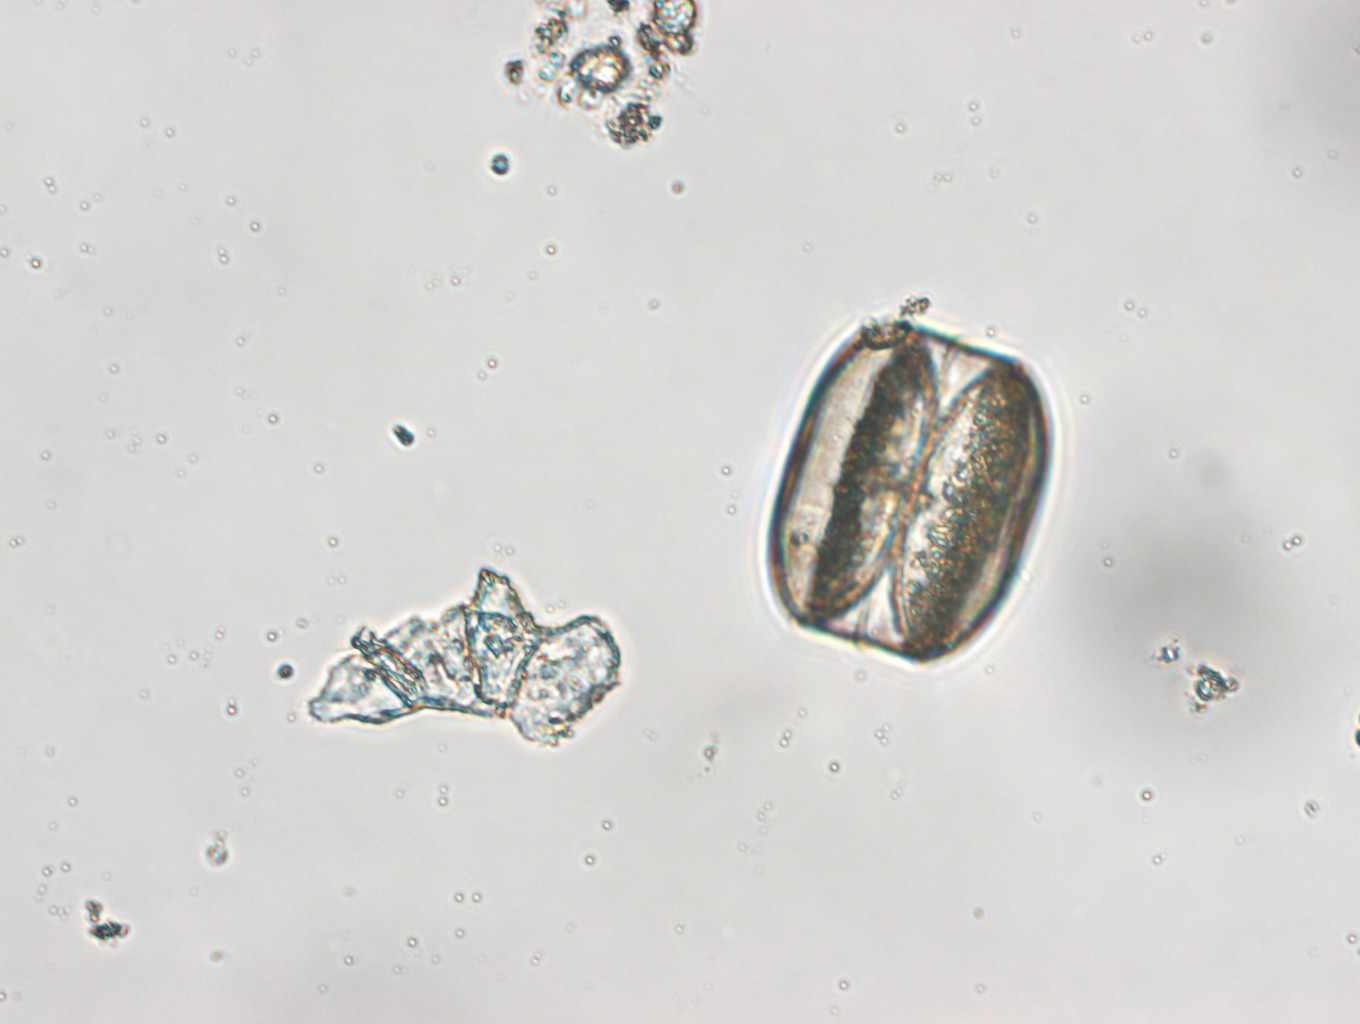coscinodiscus flank: (763, 316, 1054, 664)
